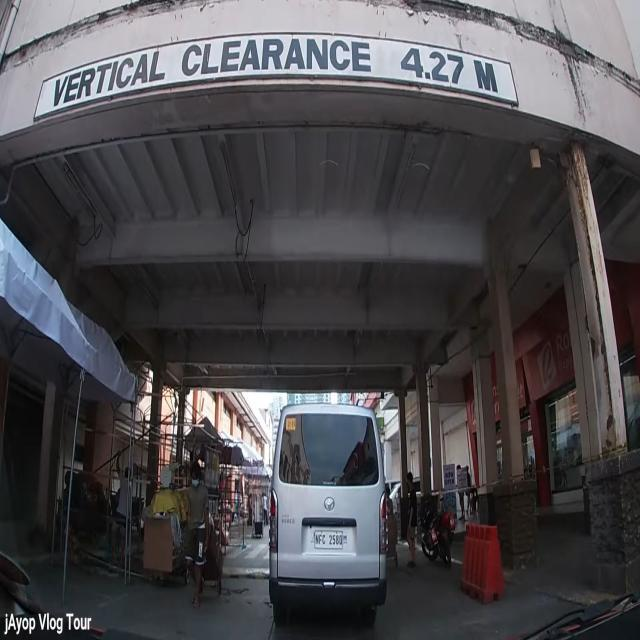car: (270, 404, 388, 628)
motorcycle: (420, 484, 456, 566)
